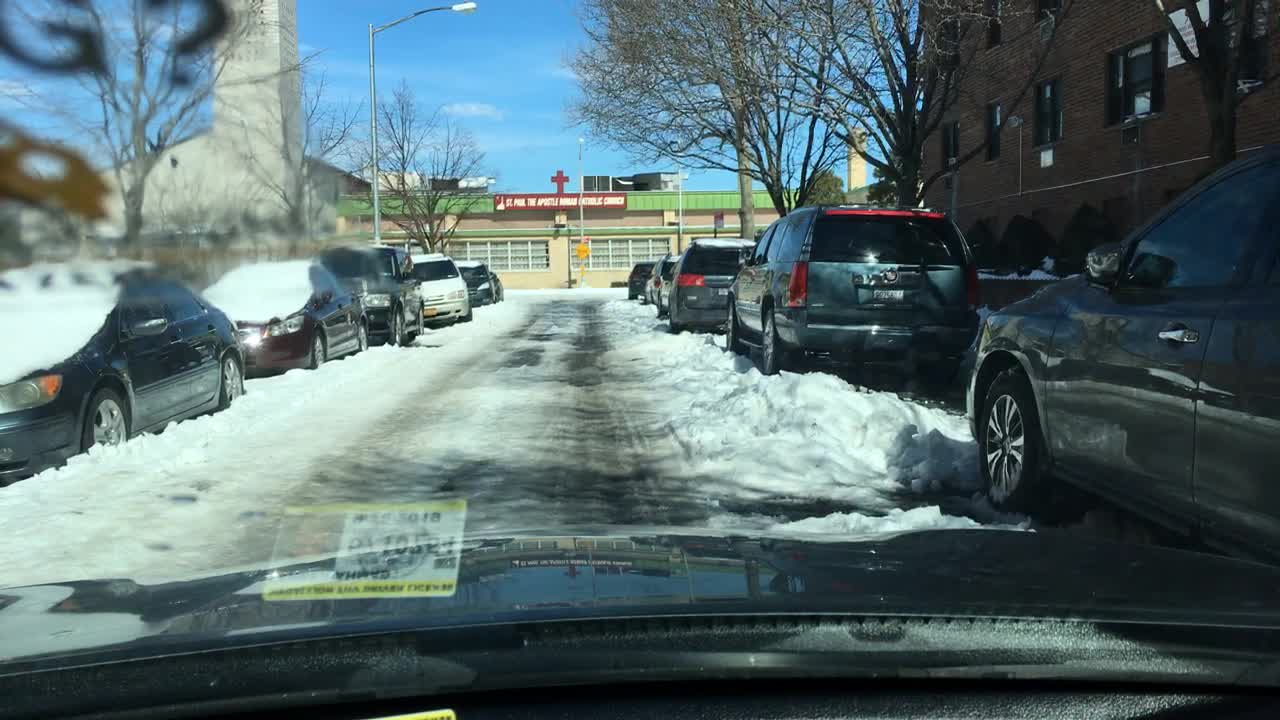car: (962, 146, 1278, 570), (0, 257, 246, 488), (724, 201, 981, 377), (199, 257, 369, 379), (312, 243, 426, 347), (666, 235, 757, 335), (411, 252, 473, 326), (454, 259, 496, 307), (651, 253, 681, 318), (626, 261, 656, 300), (644, 251, 660, 303), (489, 269, 504, 302)
traffic sign: (575, 244, 591, 258), (712, 212, 725, 229), (578, 263, 586, 275)
